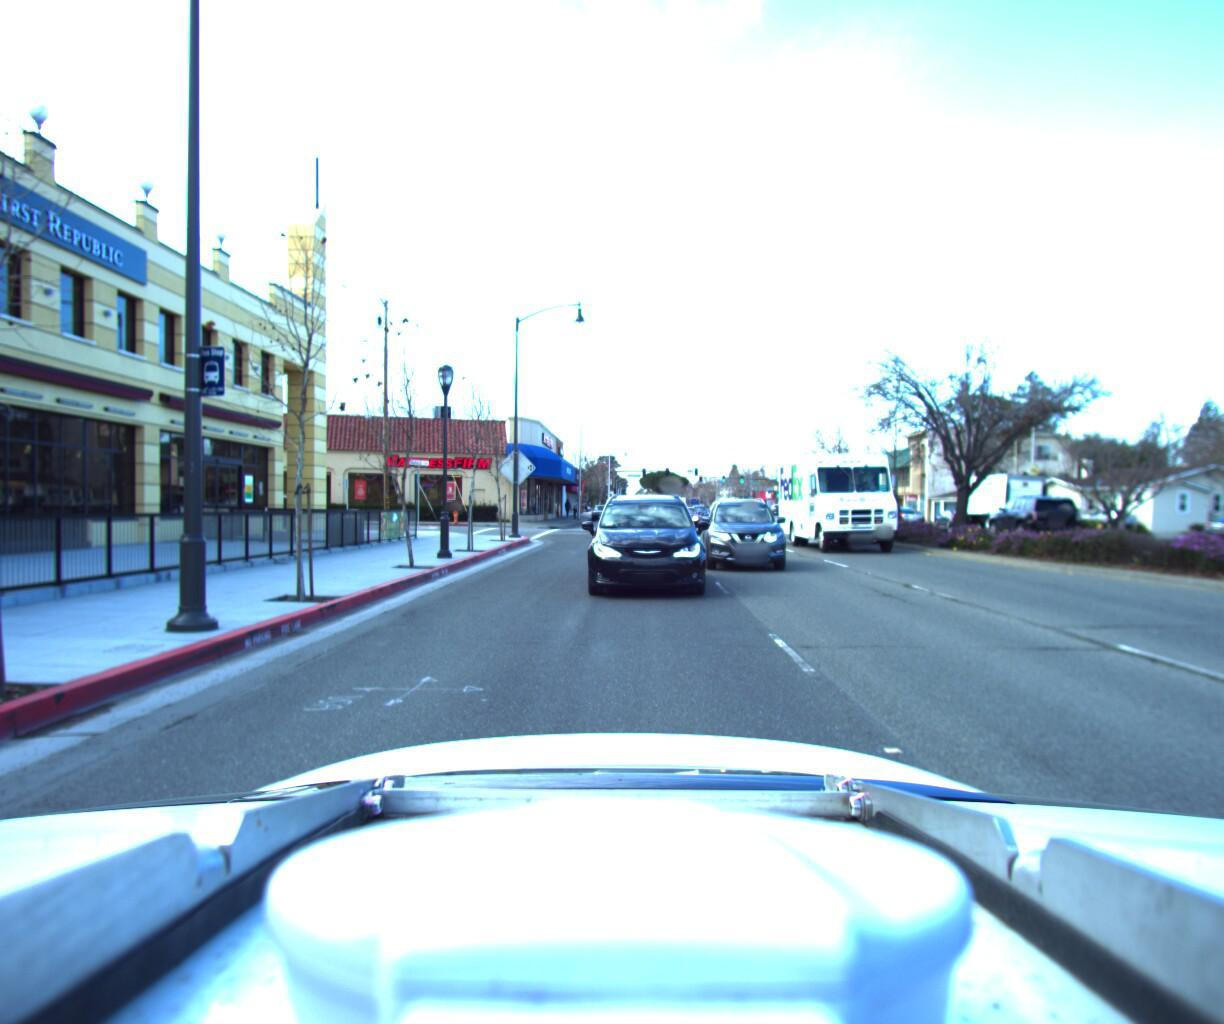car: (584, 483, 709, 597), (695, 486, 793, 573), (967, 485, 1070, 541), (1070, 499, 1142, 523), (672, 497, 706, 526), (1194, 505, 1224, 535), (892, 501, 927, 517), (589, 495, 609, 513)
truck: (771, 442, 921, 550), (941, 465, 1050, 525)
